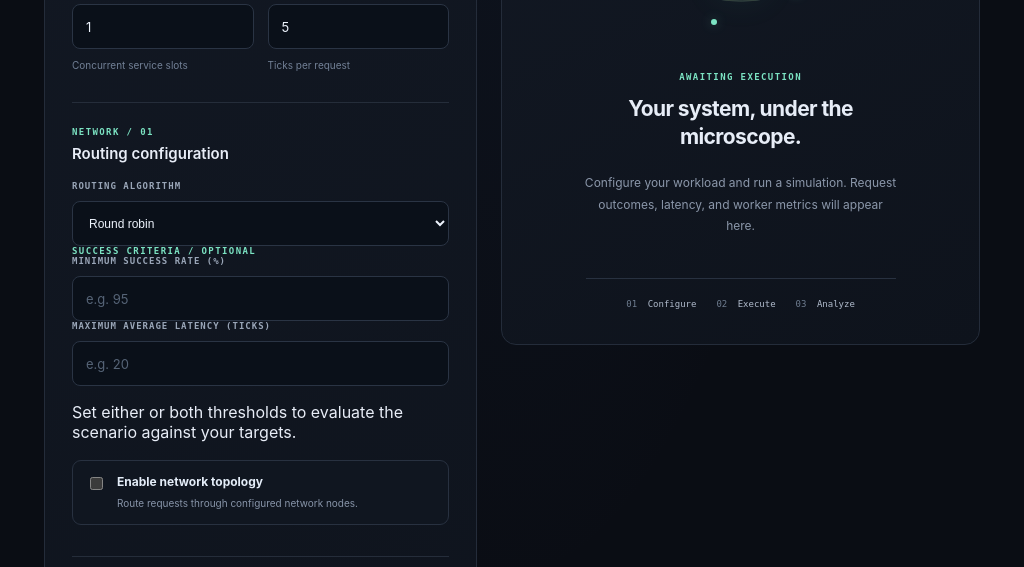
Test case: NetArena dashboard › requires topology when shortest-path routing is selected
(page scrolled)
Select "Shortest path" in the dropdown labelled "ROUTING ALGORITHM": x=261, y=224 [72,201,449,246]
(page scrolled)
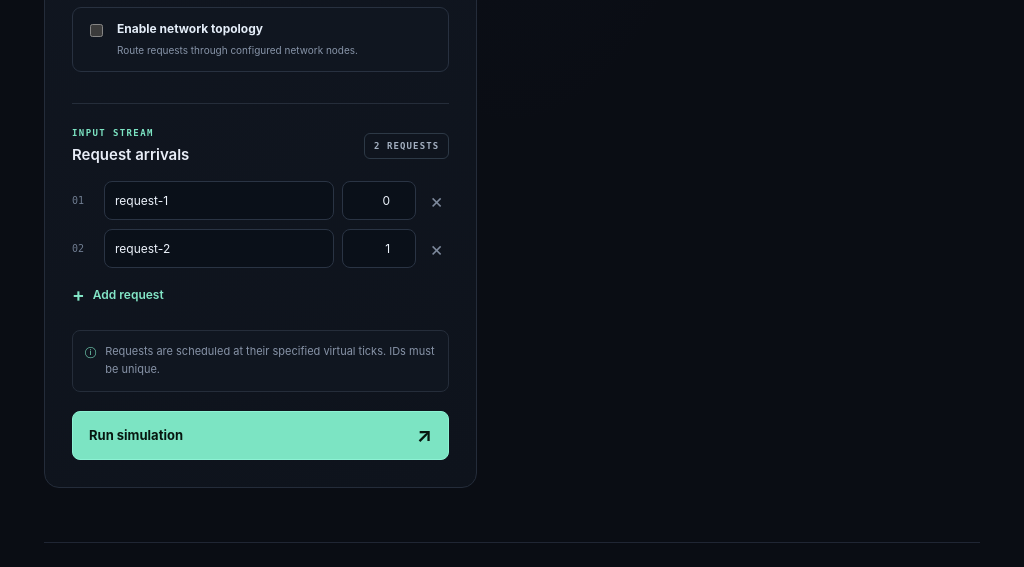
Click the button "Run simulation ↗": x=136, y=435 [72,411,449,460]
(page scrolled)
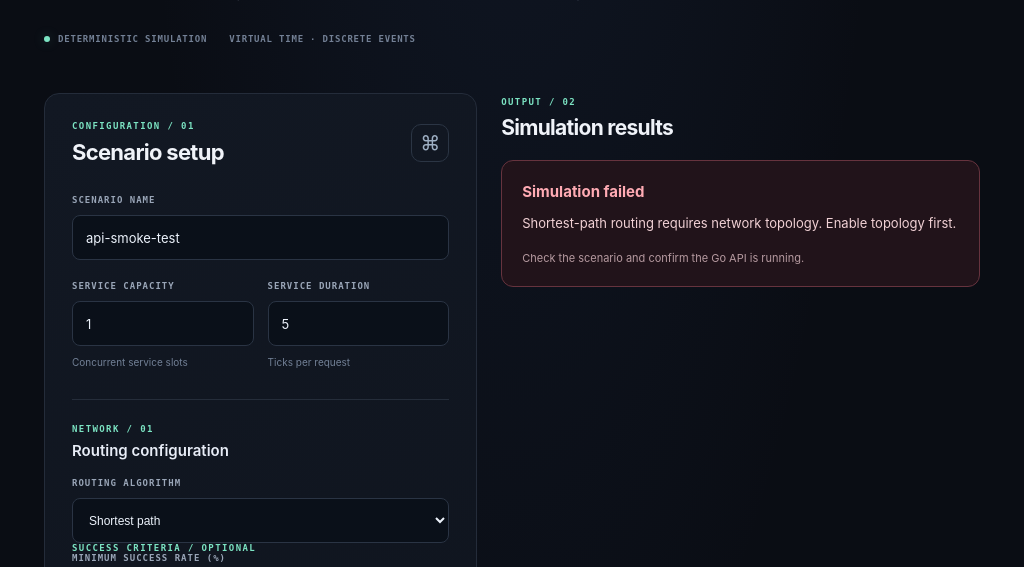
Expected: the text "Shortest-path routing requires network topology. Enable topology first." is shown, [522,212,959,234]
